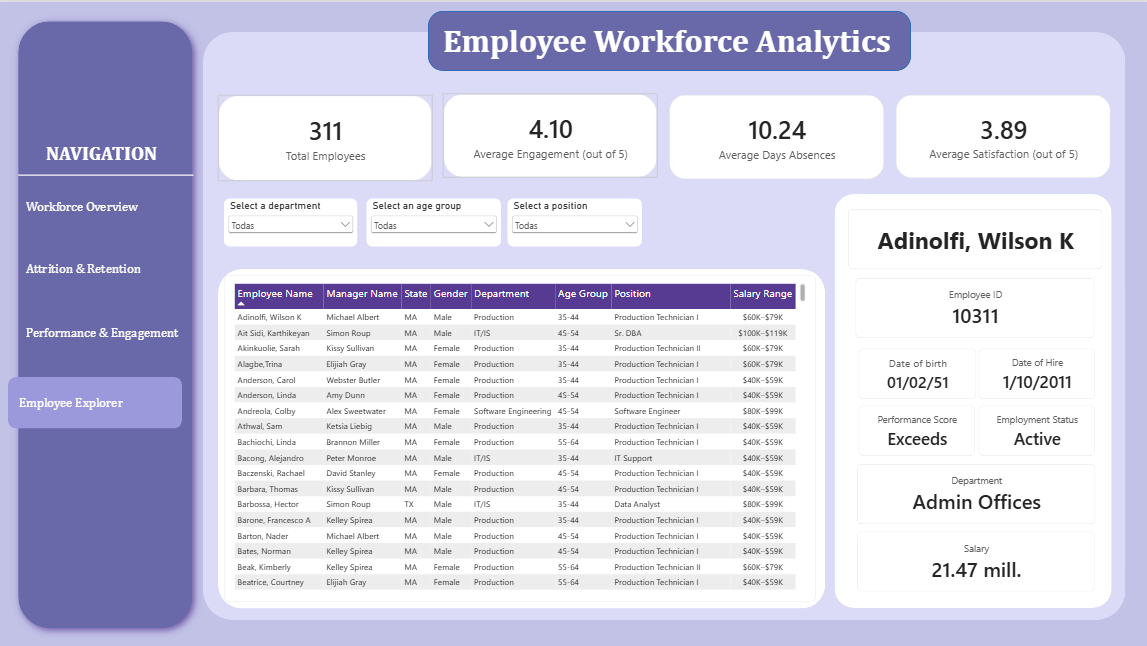

What the dashboard file says about the page in this screenshot:
{"tool":"powerbi","page":{"name":"Employee Explorer","canvas":[1920,1080],"ordinal":3},"visuals":[{"type":"shape","box":[15.7,15.7,324.3,1045.7],"z":0},{"type":"shape","box":[31.4,274.3,291.4,27.1],"z":1000},{"type":"shape","box":[15.4,623.8,290,85.7],"z":2000},{"type":"textbox","box":[32.2,654.4,214.4,35.6],"z":3000},{"type":"actionButton","box":[32,301,291.4,84.3],"z":4000},{"type":"actionButton","box":[31.4,510,291.4,84.3],"z":5000},{"type":"actionButton","box":[32.5,402.5,291.4,84.3],"z":6000},{"type":"textbox","box":[74,232,192,56],"z":7000},{"type":"shape","box":[340,50,1537.5,980],"z":8000},{"type":"shape","box":[715,15,805,100],"z":9000},{"type":"textbox","box":[740,32.5,755,82.5],"z":10000},{"type":"slicer","fields":{"Values":["HRDataset_v14.Department"]},"box":[374,326.7,222,80],"z":11000},{"type":"cardVisual","fields":{"Data":["HRDataset_v14.Total Employees"]},"box":[365,154.7,357.5,143.8],"z":12000},{"type":"cardVisual","fields":{"Data":["HRDataset_v14.Average Engagement"]},"box":[740,153.4,357.5,140],"z":13000},{"type":"cardVisual","fields":{"Data":["HRDataset_v14.Average Absences"]},"box":[1117.5,154.7,357.5,140],"z":14000},{"type":"cardVisual","fields":{"Data":["HRDataset_v14.Average Satisfaction"]},"box":[1495,154.7,357.5,138.8],"z":15000},{"type":"slicer","fields":{"Values":["HRDataset_v14.Age Group"]},"box":[612,326.7,224,80],"z":16000},{"type":"slicer","fields":{"Values":["HRDataset_v14.Position"]},"box":[848,326.7,224,80],"z":17000},{"type":"shape","box":[1392,320,462,690],"z":18000},{"type":"cardVisual","fields":{"Data":["Min(HRDataset_v14.Employee_Name)"]},"box":[1416,344,424,100],"z":19000},{"type":"shape","box":[365,445,1012,566],"z":20000},{"type":"tableEx","fields":{"Values":["HRDataset_v14.Employee_Name","HRDataset_v14.ManagerName","HRDataset_v14.State","HRDataset_v14.Gender","HRDataset_v14.Department","HRDataset_v14.Age Group","HRDataset_v14.Position","HRDataset_v14.Salary Range"]},"box":[375,455,986,544],"z":21000},{"type":"cardVisual","fields":{"Data":["Min(HRDataset_v14.DOB)"]},"box":[1431.3,576.7,196,84],"z":22000},{"type":"cardVisual","fields":{"Data":["Min(HRDataset_v14.Department)"]},"box":[1428.9,768.9,397.8,100],"z":23000},{"type":"cardVisual","fields":{"Data":["Sum(HRDataset_v14.Salary)"]},"box":[1428.9,882.2,396.7,100],"z":24000},{"type":"cardVisual","fields":{"Data":["Max(HRDataset_v14.EmpID)"]},"box":[1428,460,398,100],"z":25000},{"type":"cardVisual","fields":{"Data":["Min(HRDataset_v14.DateofHire)"]},"box":[1632,576.7,194,84],"z":26000},{"type":"cardVisual","fields":{"Data":["Min(HRDataset_v14.PerformanceScore)"]},"box":[1431.3,672,194,84],"z":27000},{"type":"cardVisual","fields":{"Data":["Min(HRDataset_v14.EmploymentStatus)"]},"box":[1632.2,672.2,194,84],"z":27001}]}

Visuals, with their boxes in screenshot pixels (x1, y1, x2, y2), scaled from the page's 1920x1080 canvas onto the 1147x646 screenshot:
shape: 9,9,203,635
shape: 19,164,193,180
shape: 9,373,182,424
textbox: 19,391,147,413
actionButton: 19,180,193,230
actionButton: 19,305,193,355
actionButton: 19,241,193,291
textbox: 44,139,159,172
shape: 203,30,1122,616
shape: 427,9,908,69
textbox: 442,19,893,69
slicer - HRDataset_v14.Department: 223,195,356,243
cardVisual - HRDataset_v14.Total Employees: 218,93,432,179
cardVisual - HRDataset_v14.Average Engagement: 442,92,656,175
cardVisual - HRDataset_v14.Average Absences: 668,93,881,176
cardVisual - HRDataset_v14.Average Satisfaction: 893,93,1107,176
slicer - HRDataset_v14.Age Group: 366,195,499,243
slicer - HRDataset_v14.Position: 507,195,640,243
shape: 832,191,1108,604
cardVisual - Min(HRDataset_v14.Employee_Name): 846,206,1099,266
shape: 218,266,823,605
tableEx - HRDataset_v14.Employee_Name x HRDataset_v14.ManagerName: 224,272,813,598
cardVisual - Min(HRDataset_v14.DOB): 855,345,972,395
cardVisual - Min(HRDataset_v14.Department): 854,460,1091,520
cardVisual - Sum(HRDataset_v14.Salary): 854,528,1091,588
cardVisual - Max(HRDataset_v14.EmpID): 853,275,1091,335
cardVisual - Min(HRDataset_v14.DateofHire): 975,345,1091,395
cardVisual - Min(HRDataset_v14.PerformanceScore): 855,402,971,452
cardVisual - Min(HRDataset_v14.EmploymentStatus): 975,402,1091,452
